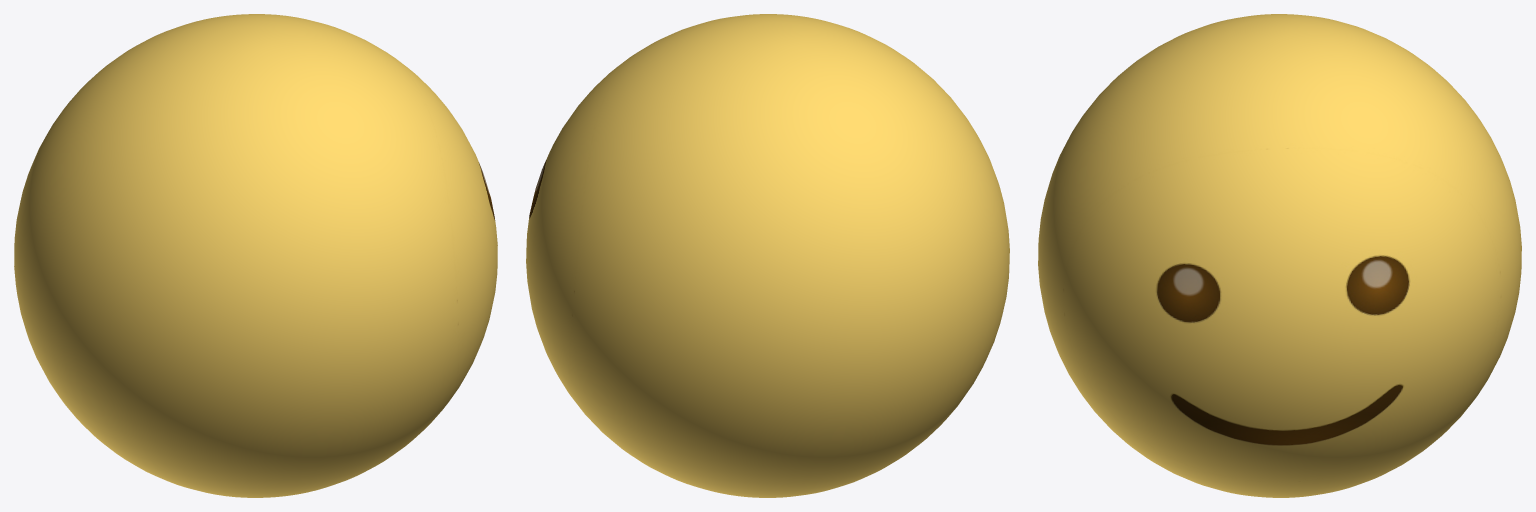
The model's file is Emoji-08new.fbx.
3 views of the same model, side by side, from view 1: azimuth 30°, elevation 25°; view 2: azimuth 150°, elevation 25°; view 3: azimuth 270°, elevation 25° (orthographic).
Visible parts, largest first — view 1: Emoji_08; view 2: Emoji_08; view 3: Emoji_08.
Part boxes in pixels (x1,y1,x2,y2): Emoji_08: (14,14,497,497); Emoji_08: (526,14,1009,497); Emoji_08: (1038,14,1521,497).
Size of the model in its own units: 10.65 by 10.66 by 10.65.
1 material, 1 textured.
